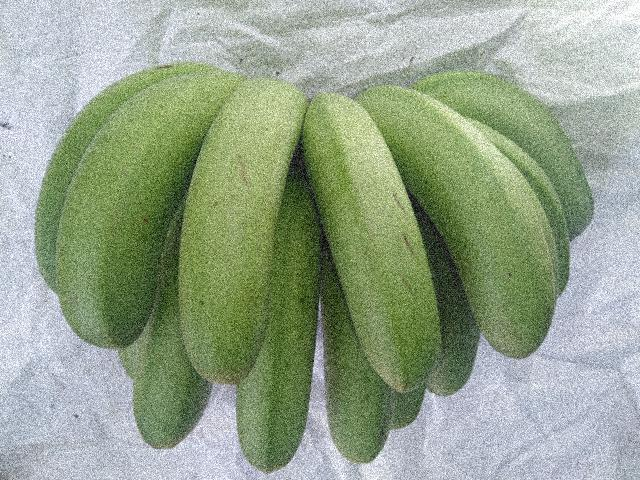freshunripe: (292, 80, 445, 394), (164, 68, 294, 382), (39, 62, 176, 356), (412, 126, 571, 356), (215, 291, 318, 474), (304, 304, 395, 459), (108, 305, 188, 460)
